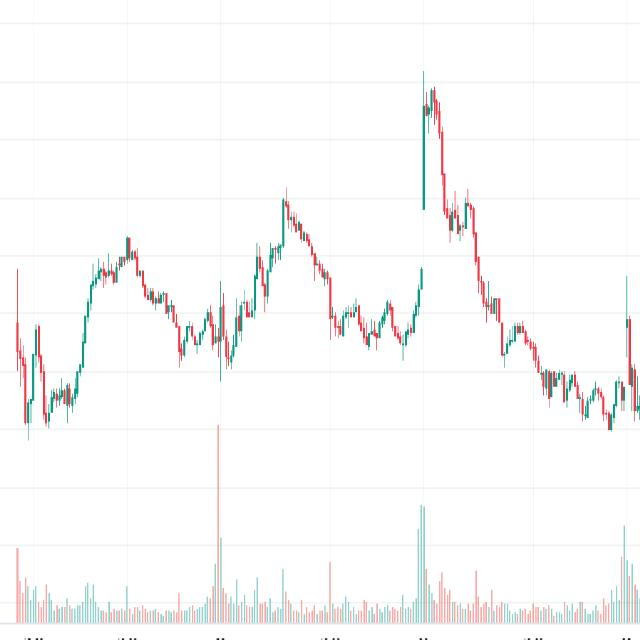Double-Bottom: (14, 297, 58, 447)
Head-Shoulders: (67, 212, 189, 436)
